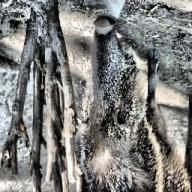boar: (73, 17, 191, 192)
